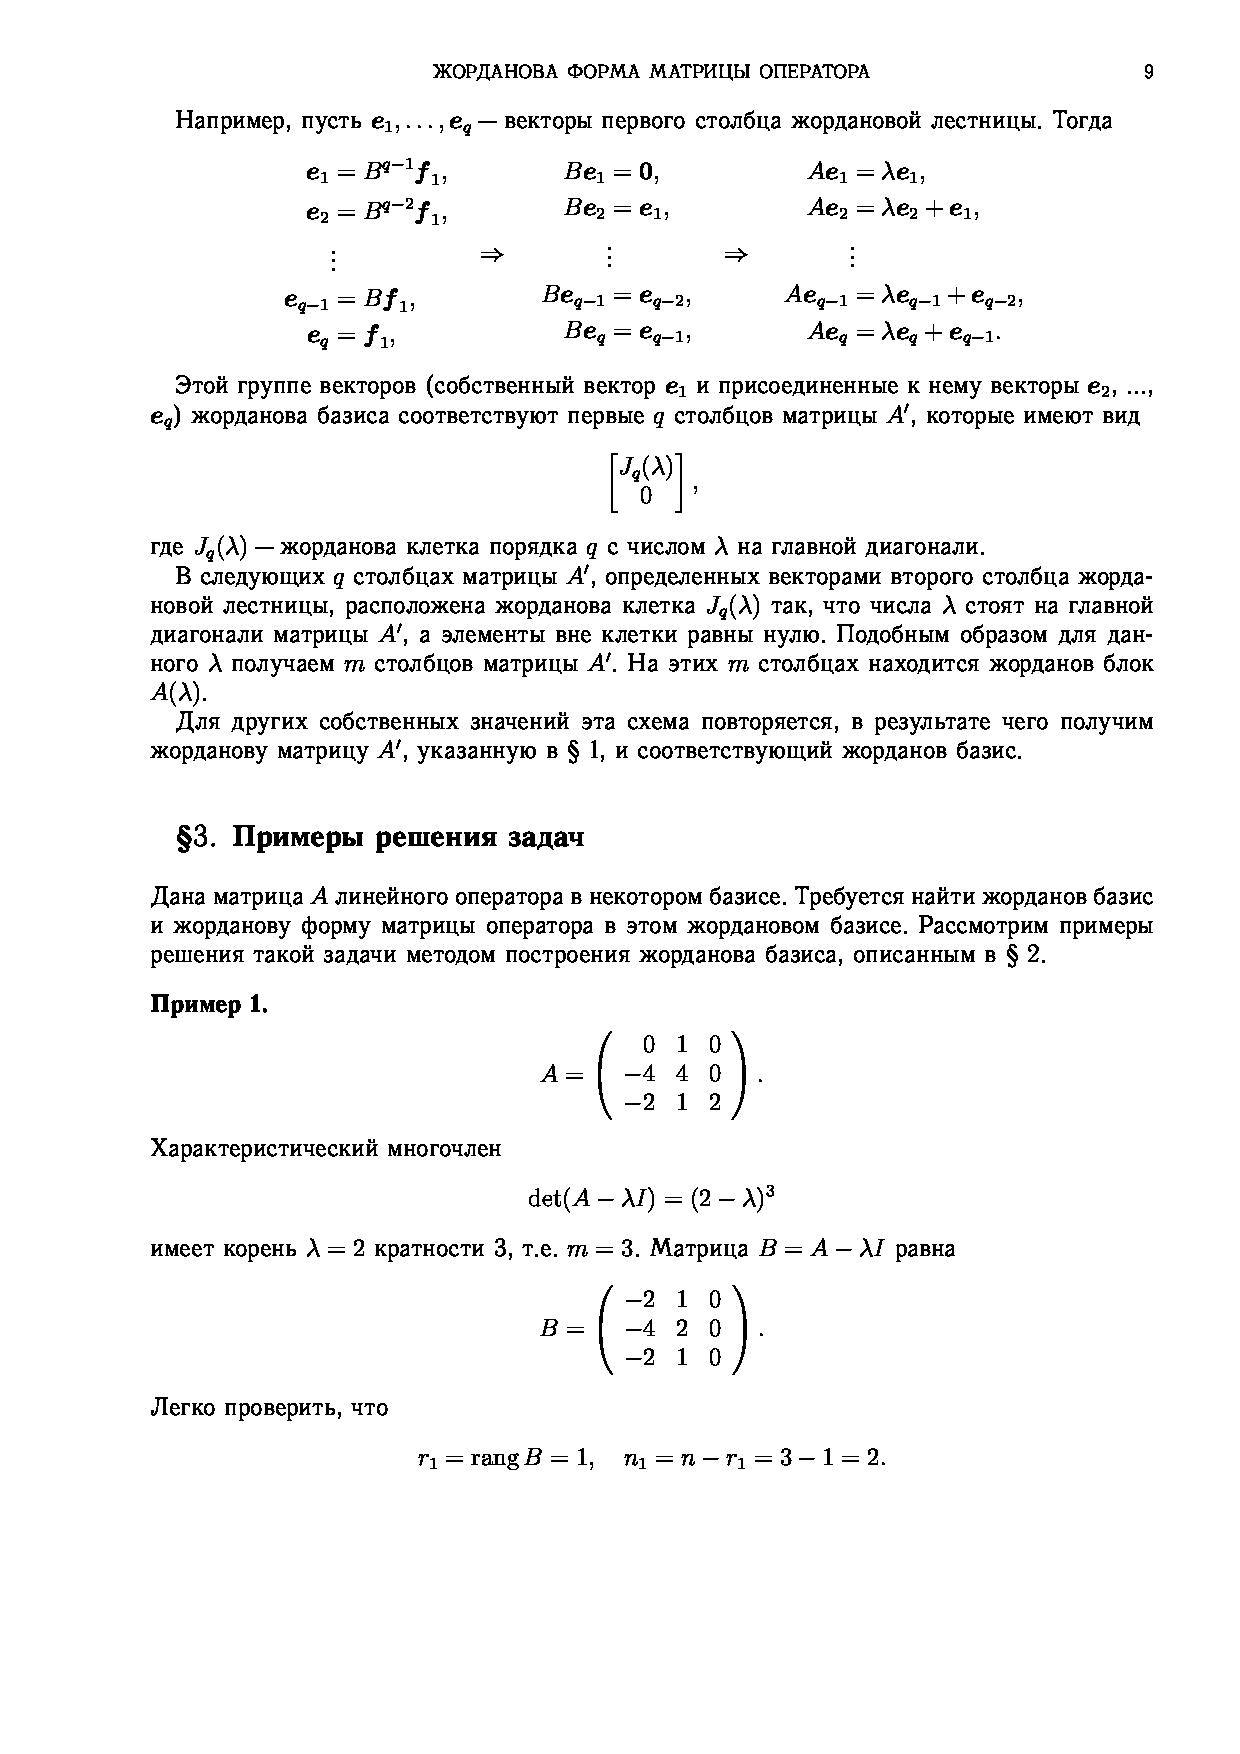bMatrix: (611, 454, 688, 519)
pMatrix: (595, 1027, 747, 1131), (597, 1284, 750, 1380)
